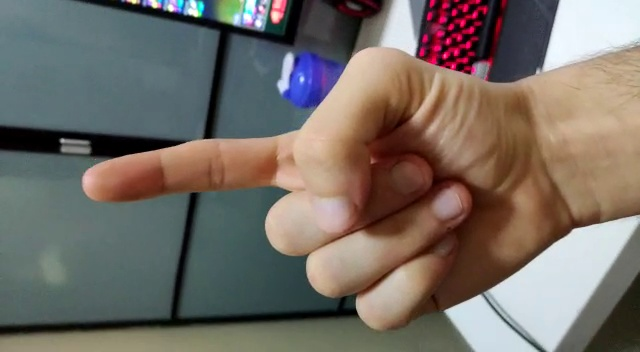One: (75, 119, 317, 216)
